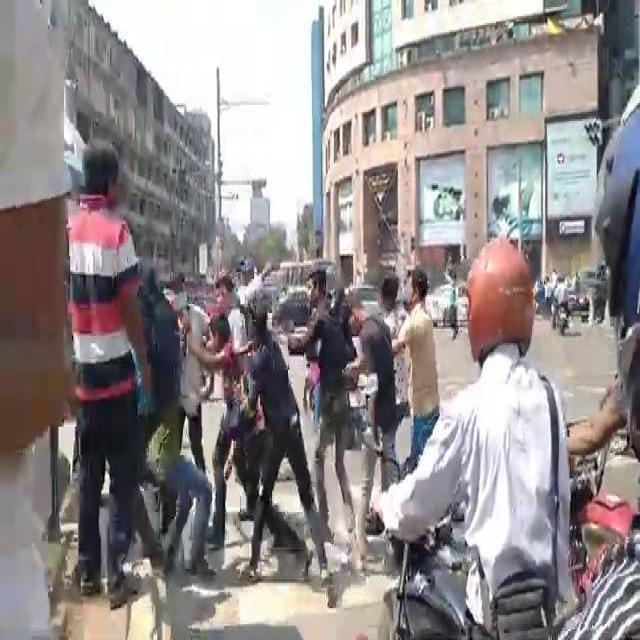fight: (394, 261, 611, 617), (140, 274, 318, 560), (56, 170, 150, 562)
